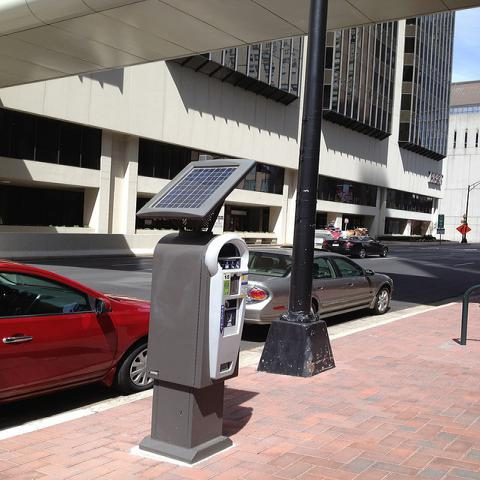car: (0, 257, 155, 406), (244, 246, 396, 326), (322, 236, 386, 256)
